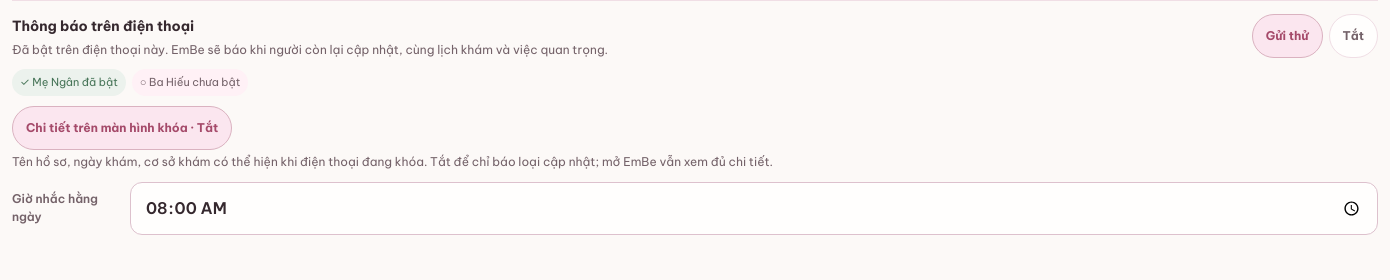
Test: family notification setup › reports when the push service accepted the subscription but could not deliver the test
The width and height of the screenshot is (1390, 280).
Click the button "Gửi thử" at (1287, 36), box [1252, 14, 1323, 58]
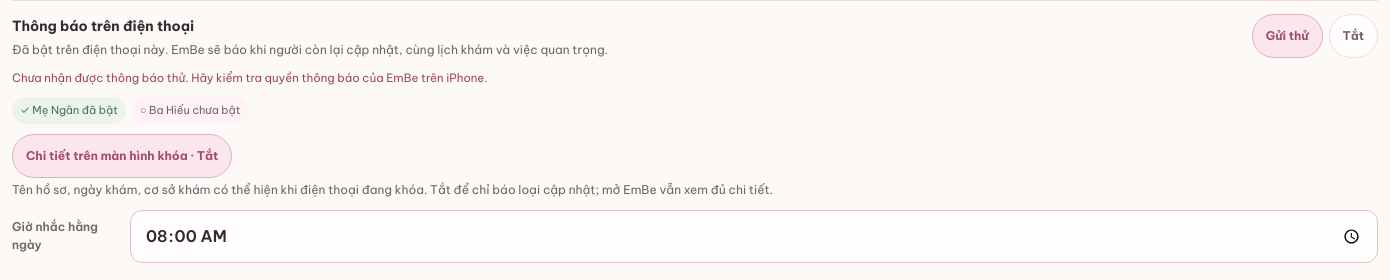
expect the text "Chưa nhận được thông báo thử. Hãy kiểm tra quyền thông báo của EmBe trên iPhone." is shown: met, box [12, 70, 488, 85]
